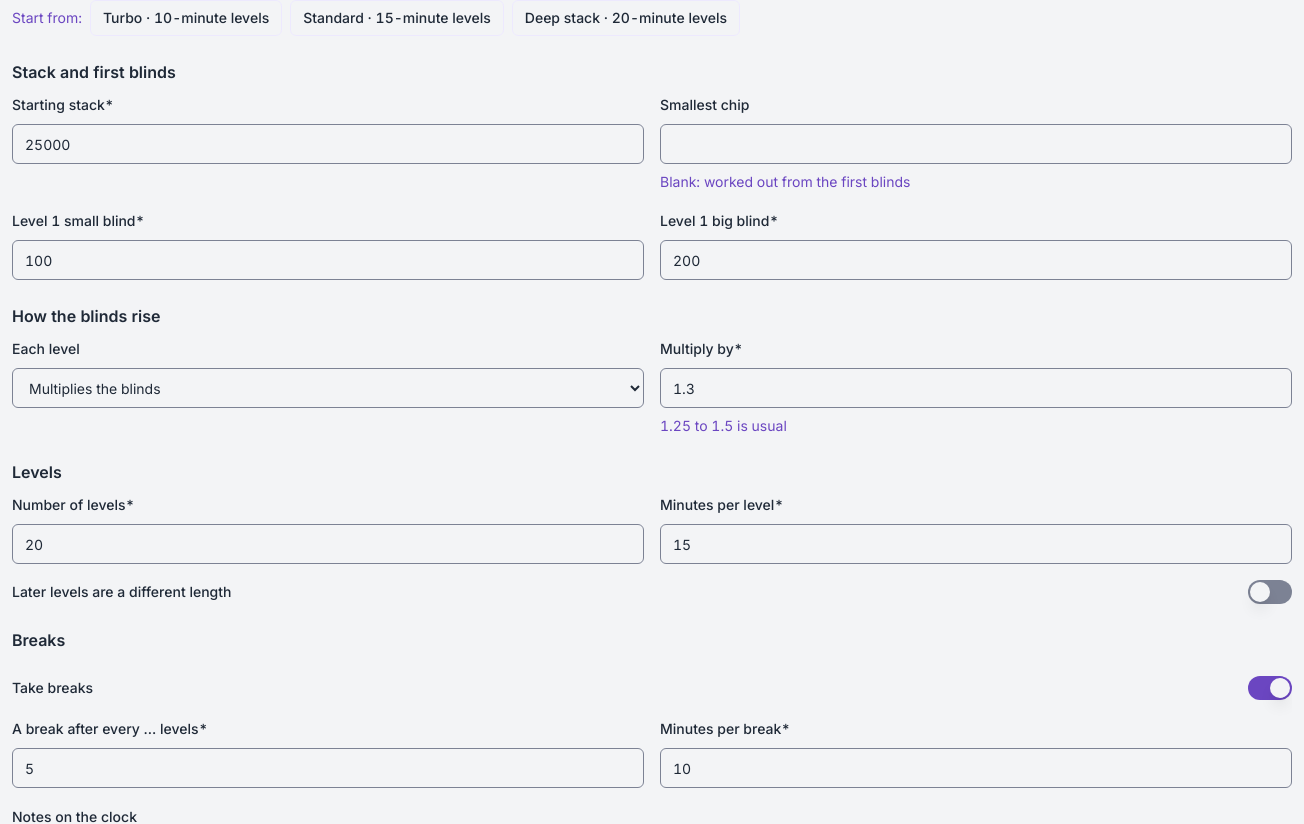
Test: StructureGenerator › updates the preview as the settings change, and loads a preset's settings
The image size is (1304, 824).
# Eight levels with a break after the fifth.
Step 1. Replace the text in the field labelled "Number of levels*" with "8" → (328, 544), box [12,524,644,564]
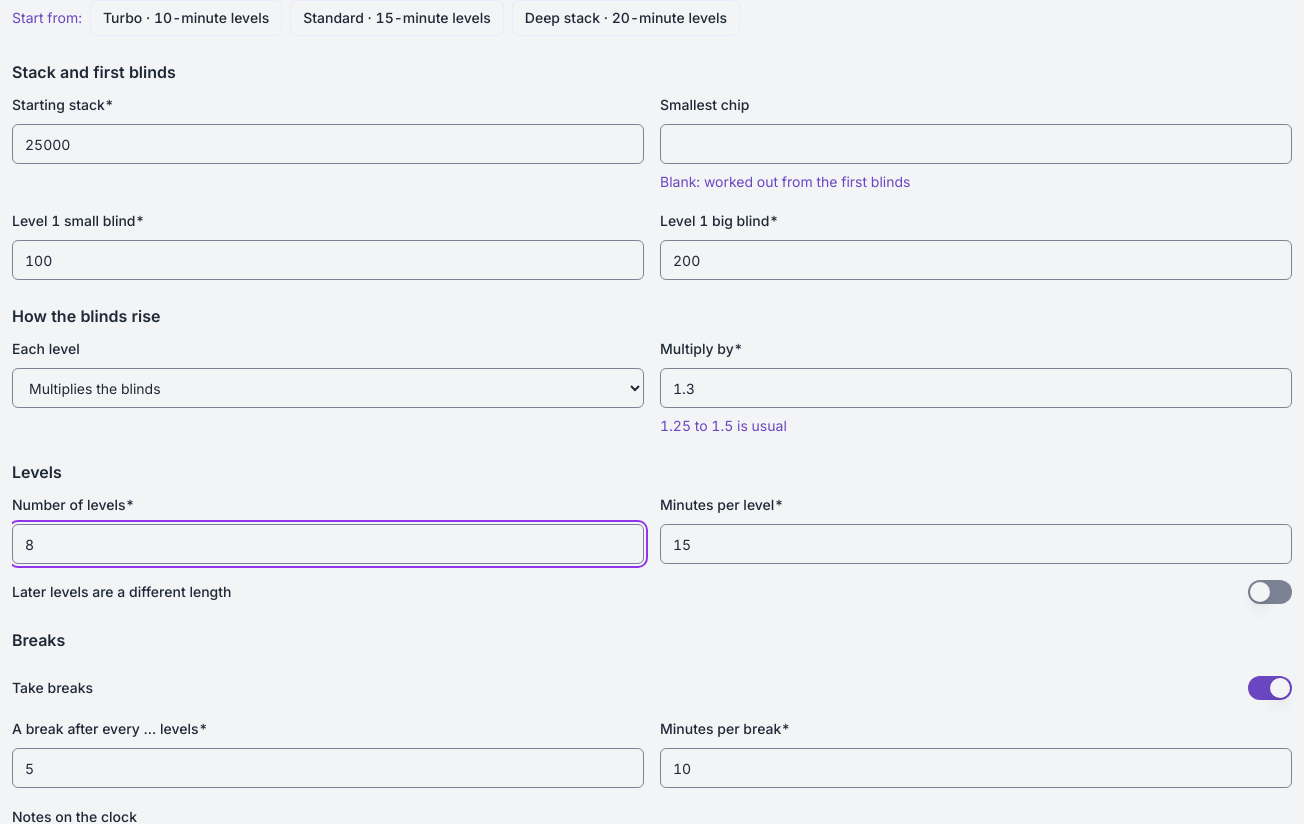
Step 2. Click the button "Turbo · 10-minute levels" → click(186, 18), box [90,0,282,36]
(page scrolled)
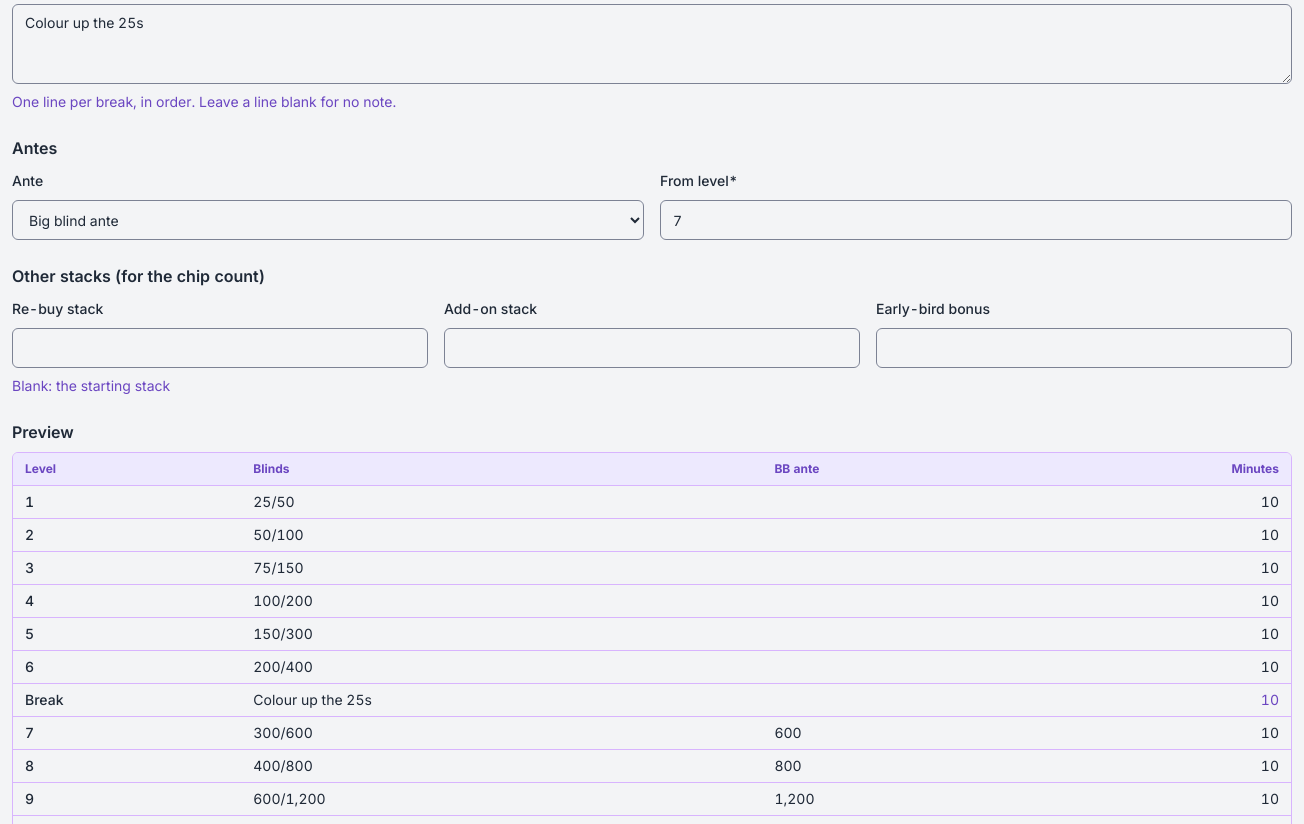
expect the row "1 25/50 10" is shown: met, box [13,486,1291,518]
